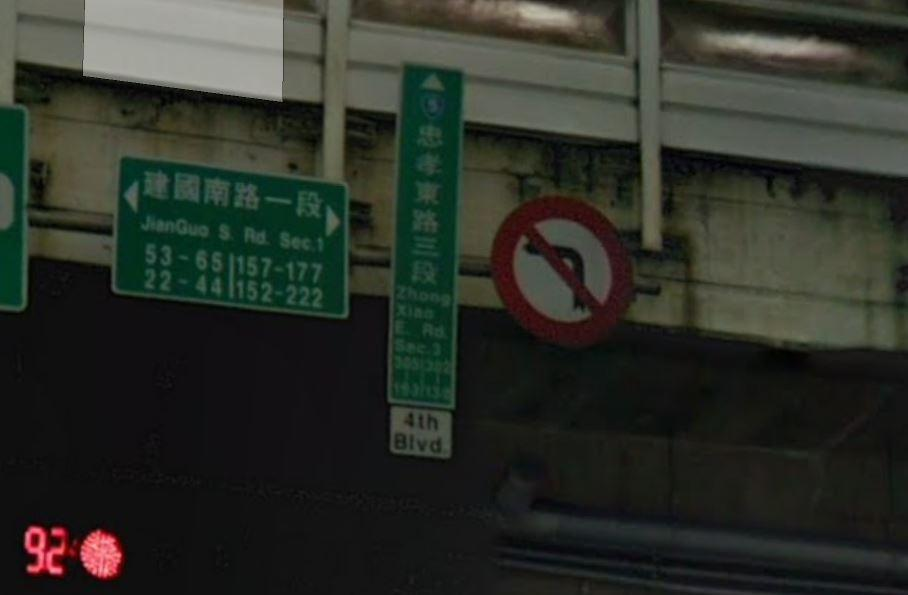no_left_turn: (488, 197, 635, 347)
